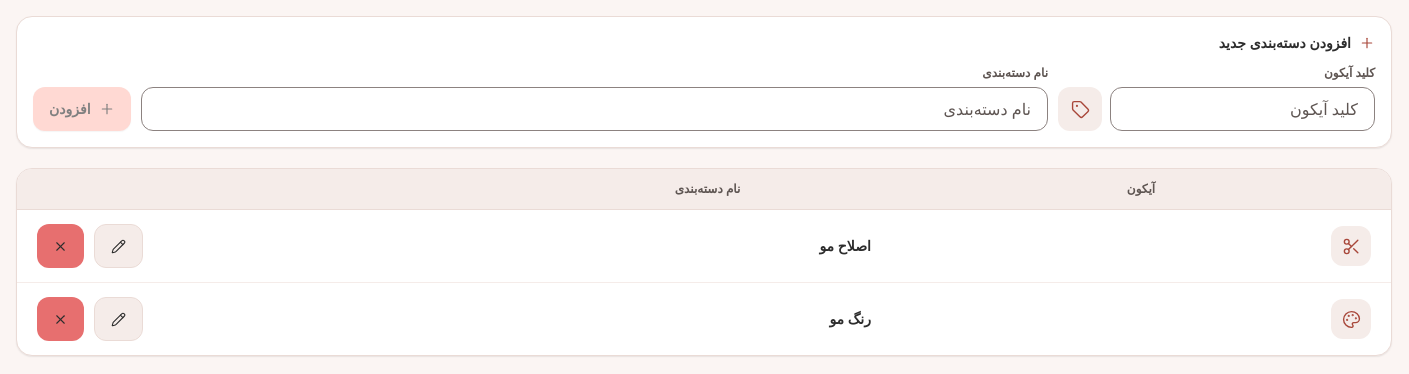
Test case: CategoriesView rename › cancels an in-progress rename without saving, leaving the original name intact
The width and height of the screenshot is (1409, 374).
Click the button titled "ویرایش" in the row of "اصلاح مو".
click(118, 246)  # box [94,224,143,268]
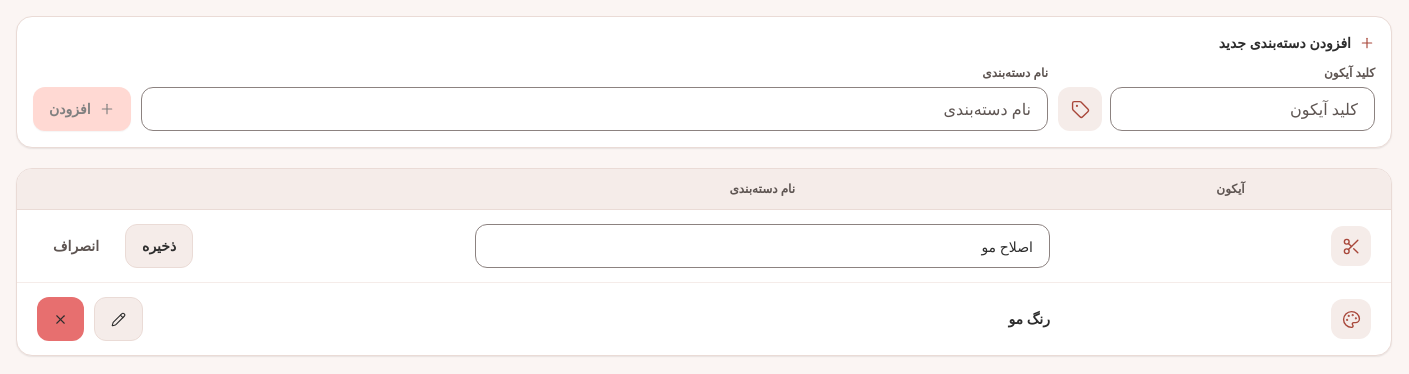
Now the field with test id "edit-name-input" is shown
Replace the text in the field with test id "edit-name-input" with "نام تغییر یافته" at (762, 246), box [475,224,1050,268]
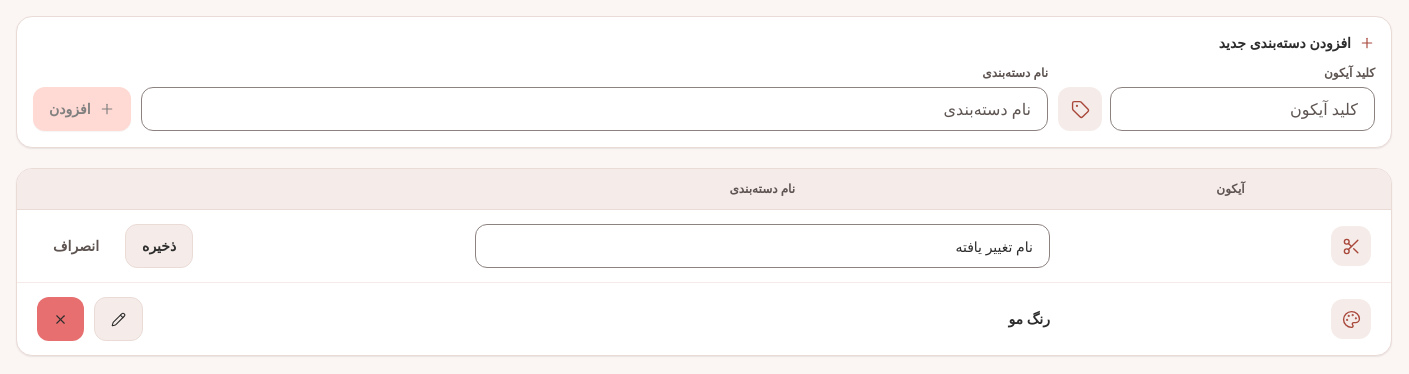
Click the button with test id "cancel-edit".
click(76, 246)  # box [37,224,115,268]
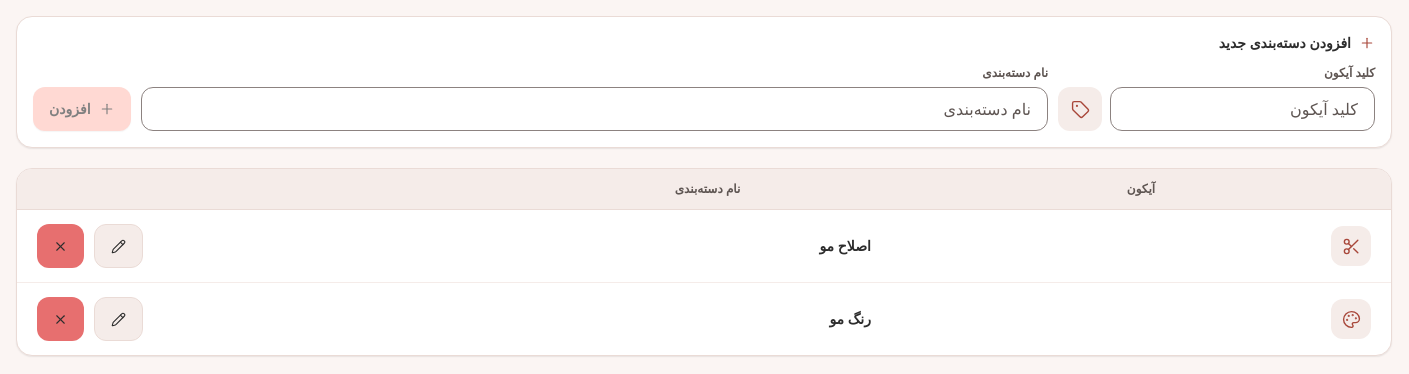
Expected: the text "نام تغییر یافته" is not shown
Now the text "اصلاح مو" is shown, box [524,210,891,282]
